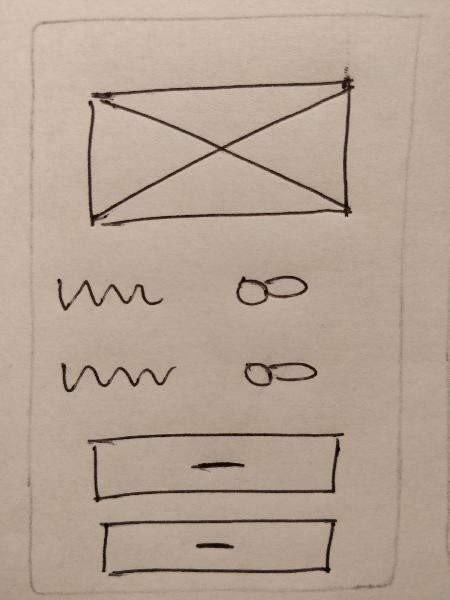button: (74, 428, 353, 509), (87, 513, 347, 584)
image: (76, 71, 365, 233)
switch: (222, 345, 327, 403), (221, 260, 314, 318)
text: (46, 266, 172, 325), (52, 352, 184, 403)
